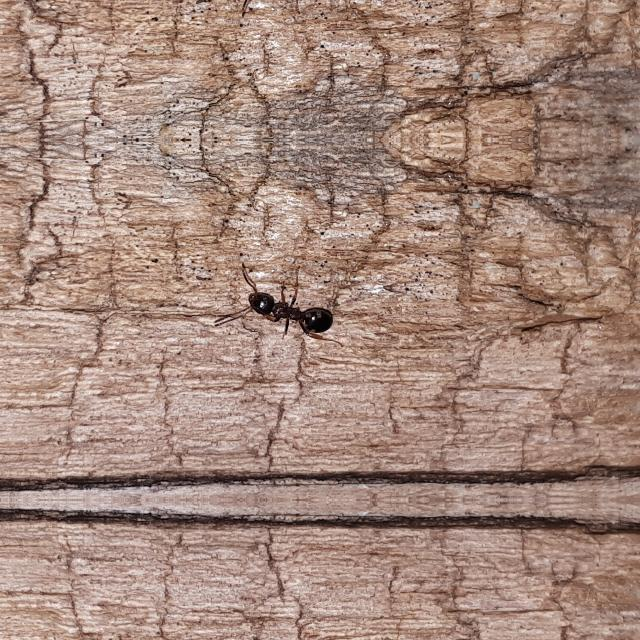Dolichoderus: (215, 272, 361, 344)
